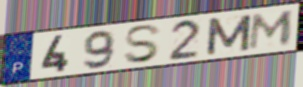2: (167, 18, 203, 62)
4: (39, 33, 71, 74)
9: (82, 28, 117, 70)
M: (204, 13, 254, 57), (246, 8, 297, 51)
S: (122, 23, 164, 65)
